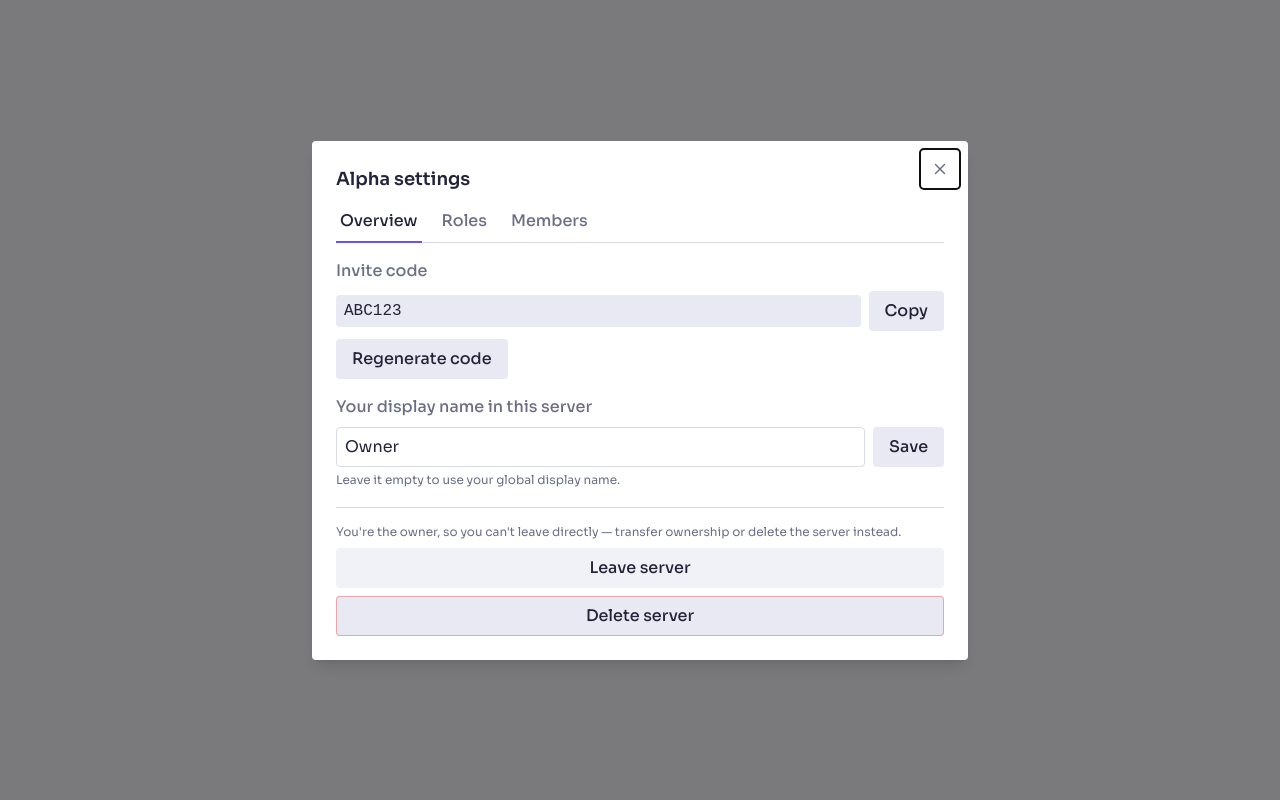
Test: ServerSettingsPanel › shows Make owner for other members on the Members tab
Expected: the text "ABC123" is shown, [336,294,861,326]
Click the button "Members" at (549, 226), box [507,208,592,242]
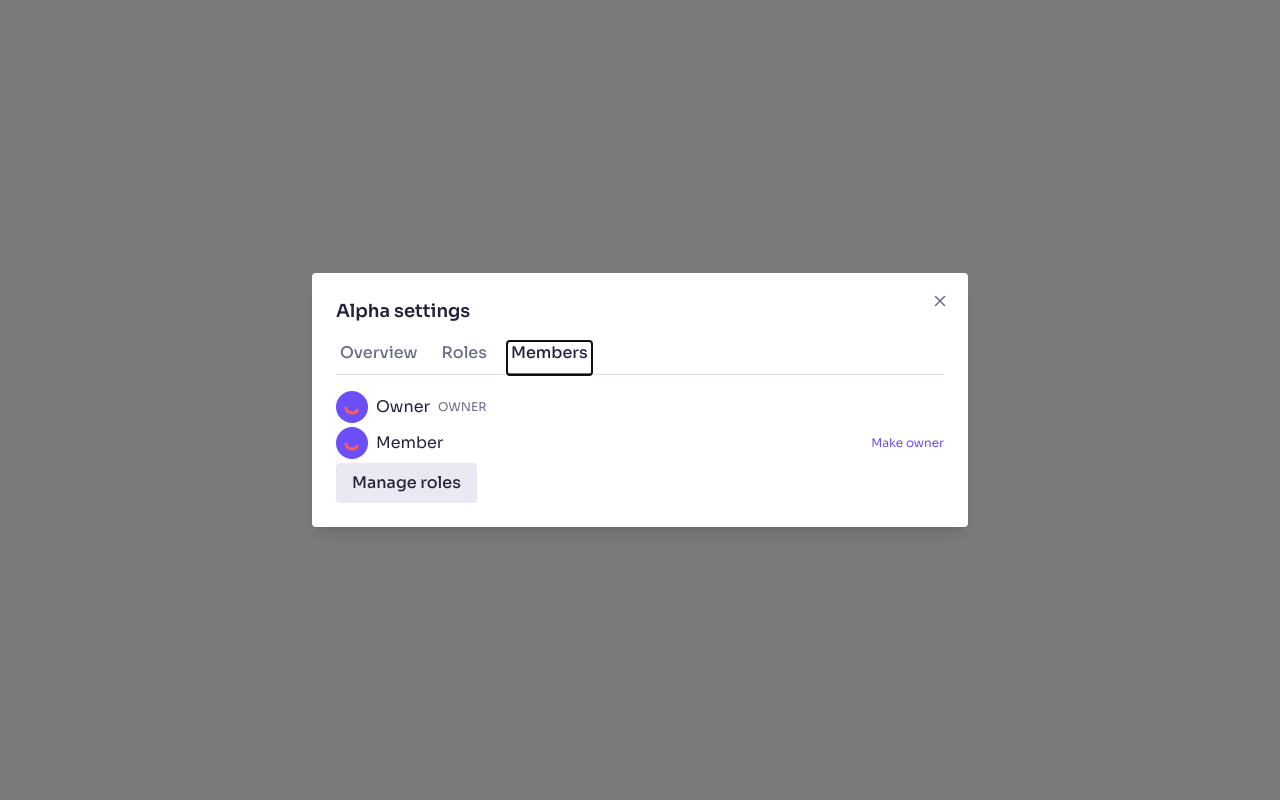
Expected: the button "Make owner" is shown, [871,435,944,451]
